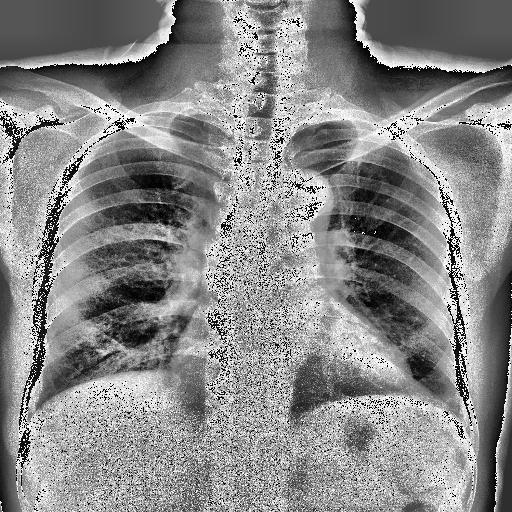0- Aortic enlargement: (268, 168, 332, 232), (266, 172, 330, 232), (268, 169, 333, 224)
3- Cardiomegaly: (169, 303, 430, 405), (167, 338, 419, 407)
